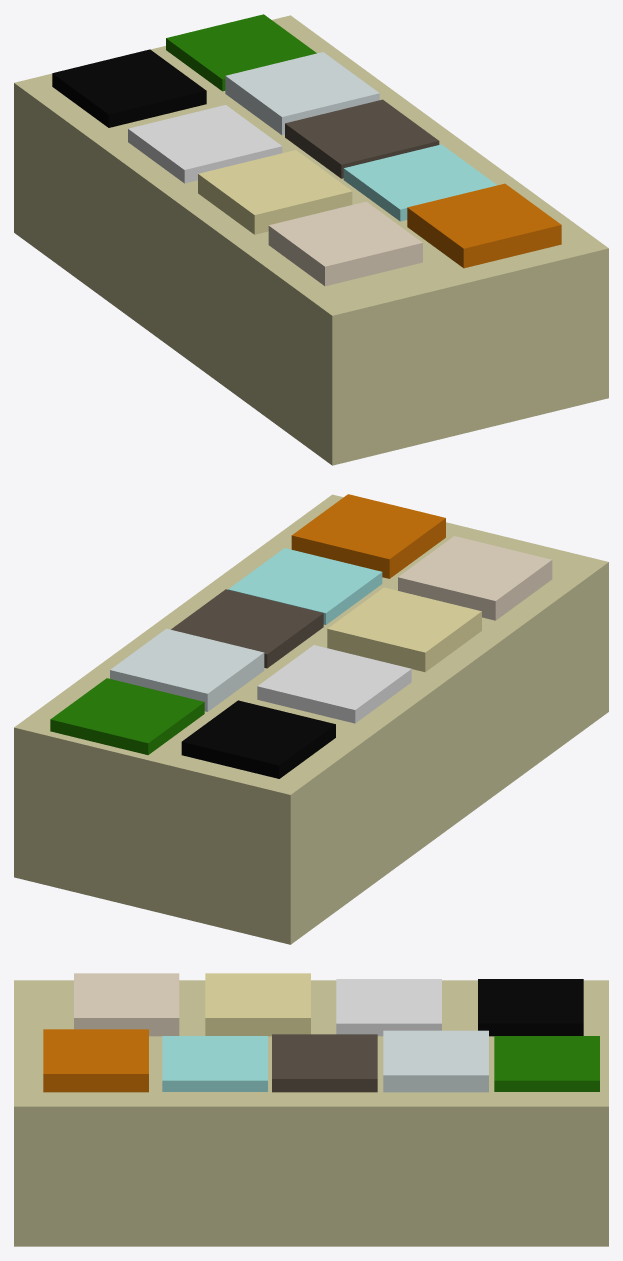
The model's file is Clothing Table 4.fbx.
The picture shows the model from 3 angles, top to bottom: view 1: azimuth 30°, elevation 25°; view 2: azimuth 150°, elevation 25°; view 3: azimuth 270°, elevation 25°; orthographic projection. The views are drawn at different scales.
Visible parts, largest first — view 1: etale_vetement_straight1_pCube38; view 2: etale_vetement_straight1_pCube38; view 3: etale_vetement_straight1_pCube38.
Part boxes in pixels (x1,y1,x2,y2): etale_vetement_straight1_pCube38: (14, 14, 608, 465); etale_vetement_straight1_pCube38: (14, 494, 608, 944); etale_vetement_straight1_pCube38: (14, 973, 608, 1246).
Bounding box in the file's own units: 1.59 × 0.9297 × 3.17.
